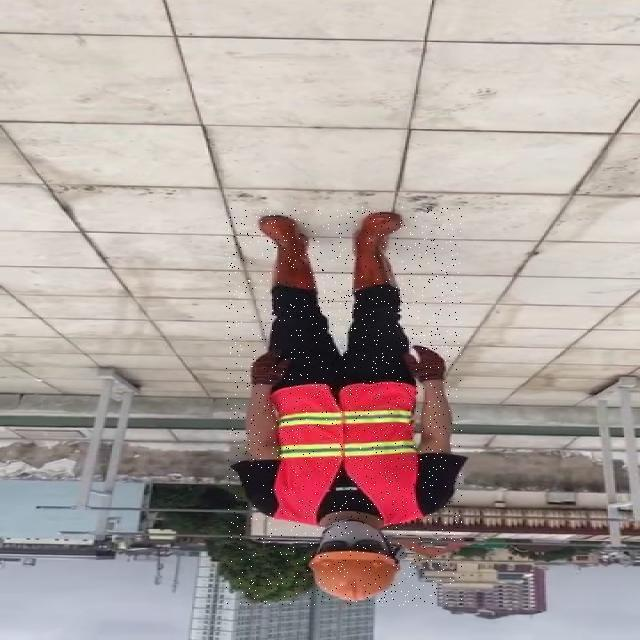gloves: (244, 343, 294, 395), (396, 345, 452, 386)
